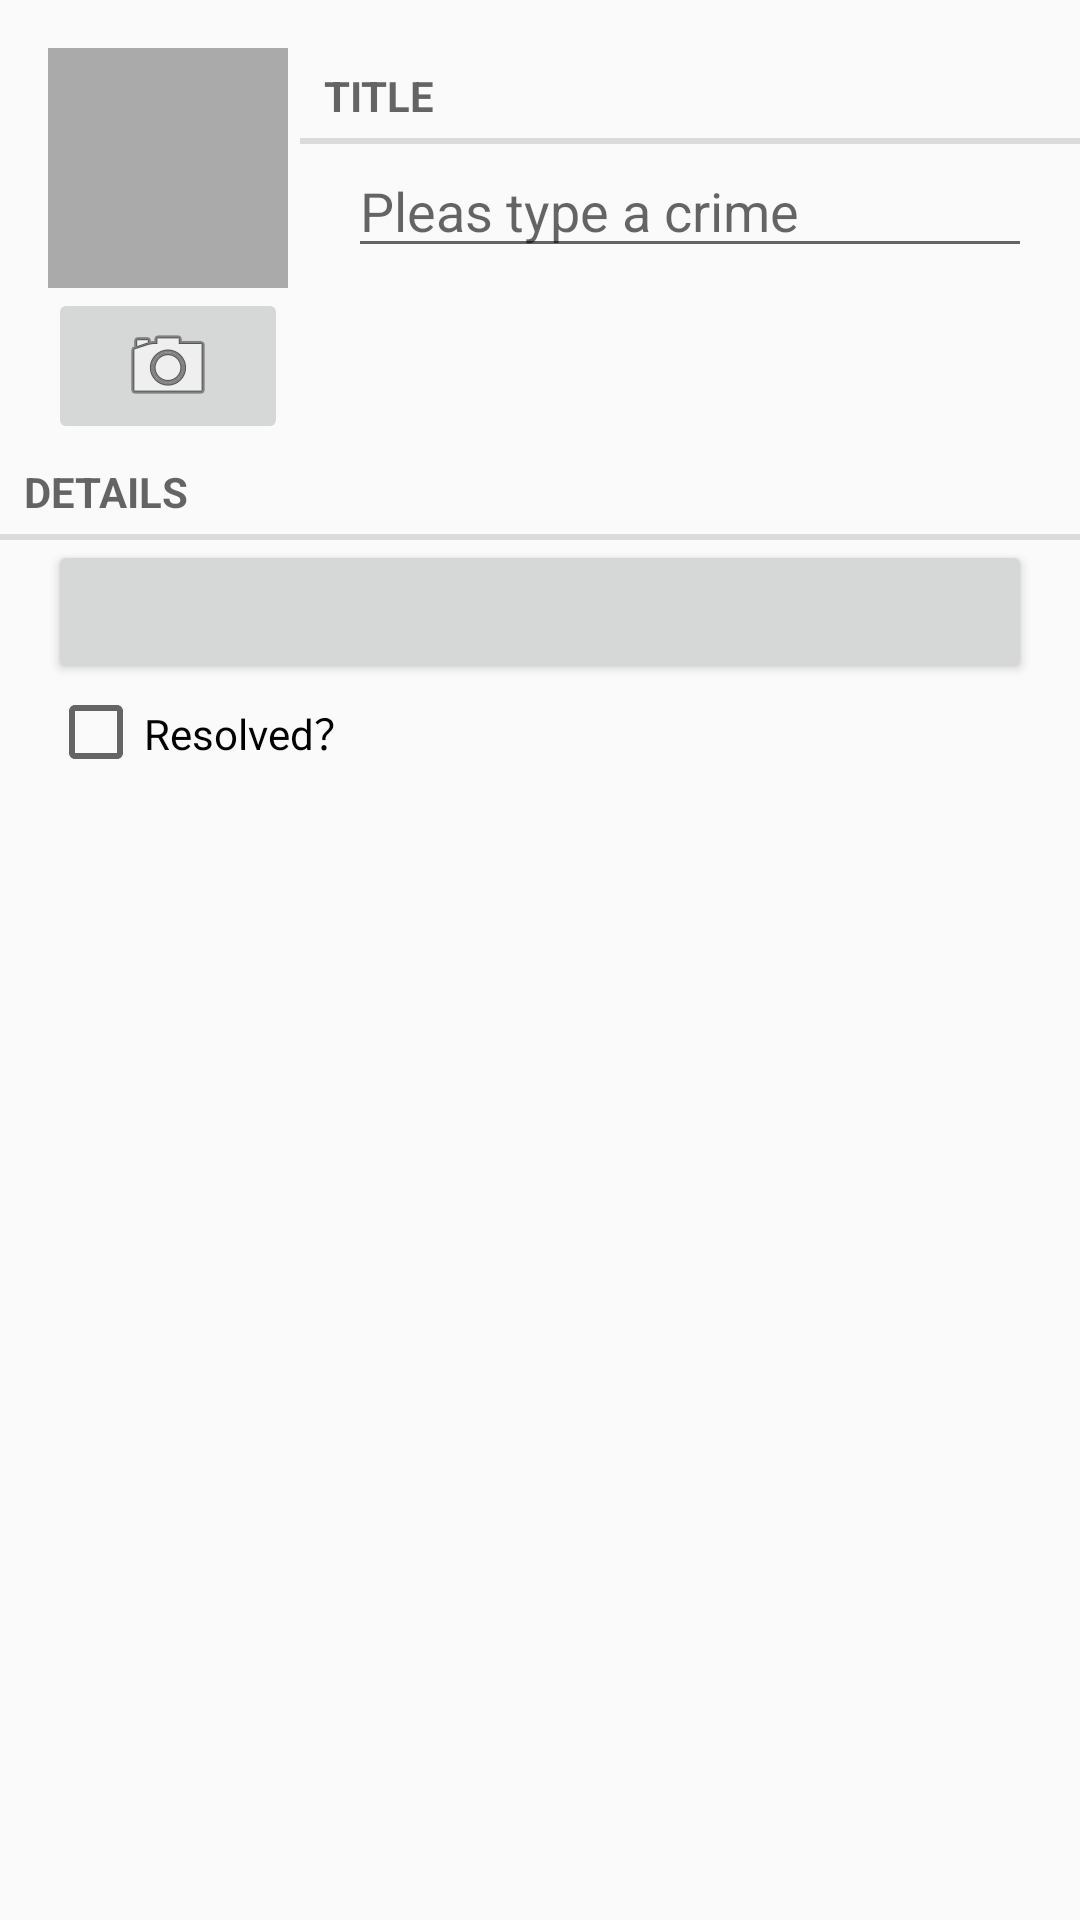

Where icons sit on this 1080*1920 app screen, as (x1, y1, x2, y2):
camera: (60, 306, 276, 426)
